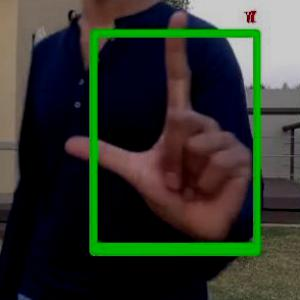land_hand: (56, 0, 263, 250)
